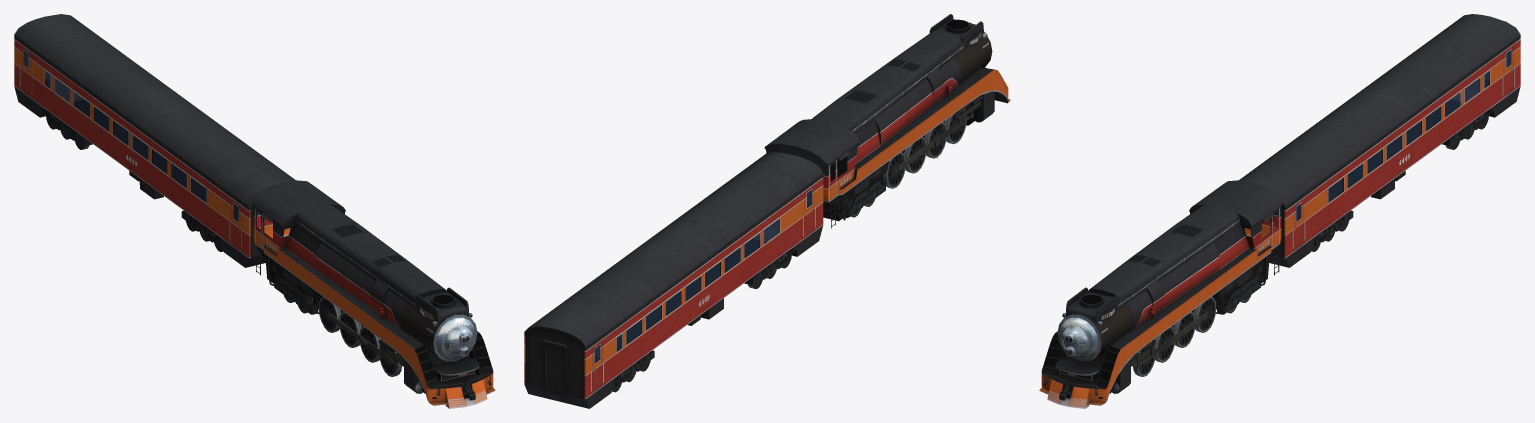
The model's file is train.fbx.
The picture shows the model from 3 angles, left to right: view 1: azimuth 30°, elevation 25°; view 2: azimuth 150°, elevation 25°; view 3: azimuth 330°, elevation 25°; orthographic projection.
Parts seen in each view (by area): view 1: Bogi, Engine; view 2: Bogi, Engine; view 3: Bogi, Engine.
Boxes of the visible parts, x1,y1,x2,y2 form: Bogi: (14,14,295,267); Engine: (252,180,495,408); Bogi: (524,152,823,408); Engine: (764,14,1010,228); Bogi: (1239,14,1520,267); Engine: (1039,180,1282,408).
Size of the model in its own units: 241 by 314 by 2705.
